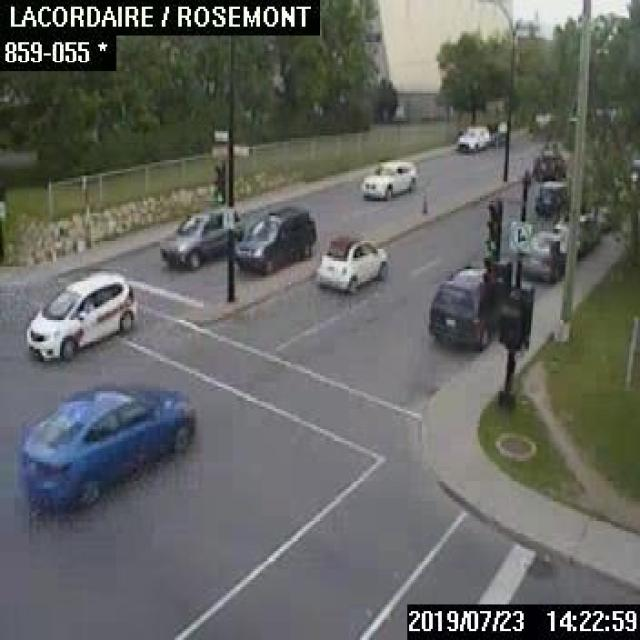vehicle: (16, 384, 194, 514), (26, 271, 136, 361), (426, 262, 502, 350), (235, 206, 314, 272), (160, 205, 242, 266), (316, 232, 388, 294), (518, 228, 563, 280), (362, 160, 416, 197), (552, 214, 597, 250), (532, 181, 567, 214), (531, 149, 565, 178), (455, 126, 488, 150), (485, 121, 506, 147)
